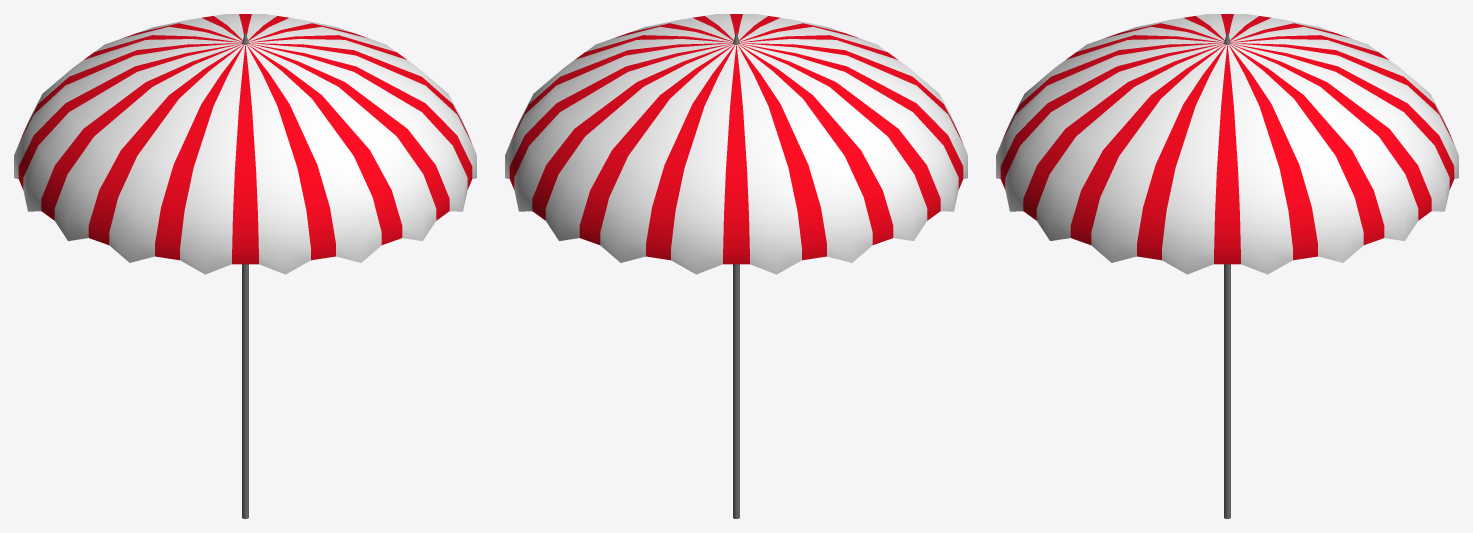
Rendered from Sombrinha1.fbx.
3 views of the same model, side by side, from view 1: azimuth 30°, elevation 25°; view 2: azimuth 150°, elevation 25°; view 3: azimuth 270°, elevation 25° (orthographic).
Visible parts, largest first — view 1: Sombrinha1; view 2: Sombrinha1; view 3: Sombrinha1.
Part boxes in pixels (<box>): Sombrinha1: <box>14,14,476,518</box>; Sombrinha1: <box>505,14,967,518</box>; Sombrinha1: <box>996,14,1458,518</box>.
Size of the model in its own units: 980 by 1149 by 995.
